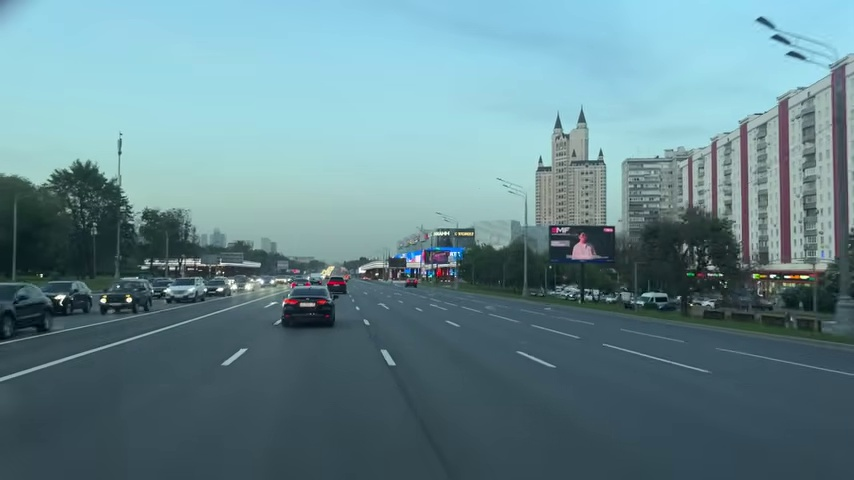apagada: (753, 15, 797, 61), (766, 29, 804, 63), (753, 15, 786, 52), (754, 15, 774, 31)
